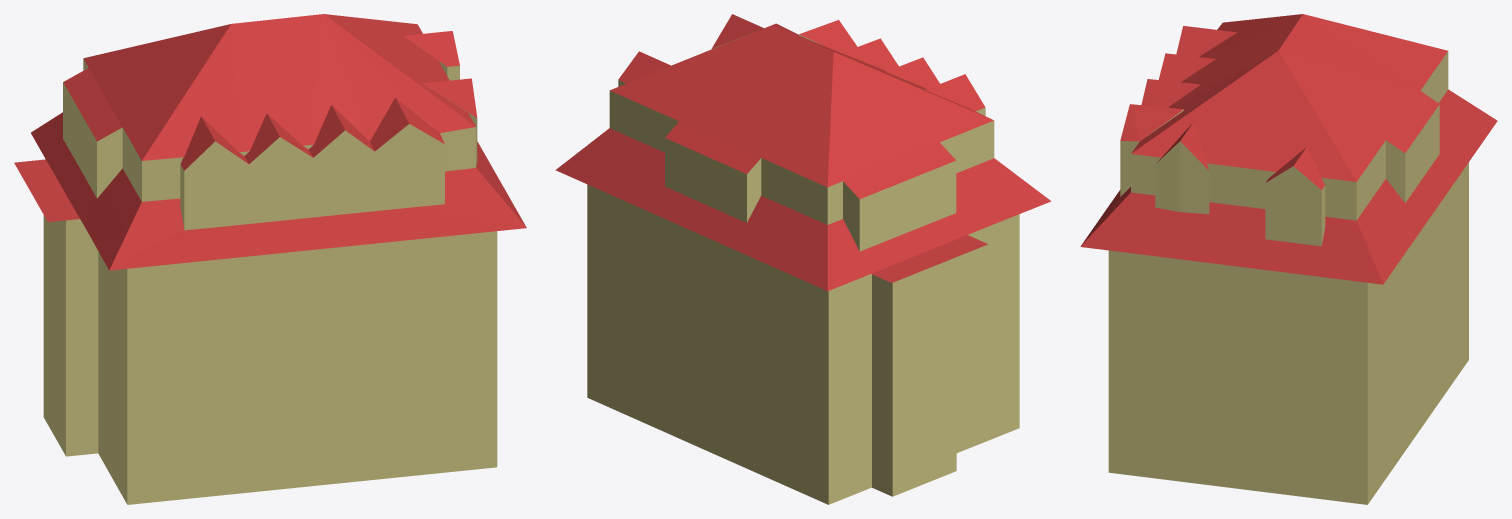
3 views of the same model, side by side, from view 1: azimuth 30°, elevation 25°; view 2: azimuth 150°, elevation 25°; view 3: azimuth 270°, elevation 25° (orthographic). The views are drawn at different scales.
Visible parts, largest first — view 1: group_13, group_4, group_9, group_3, group_12, group_5, group_8, group_6, group_10; view 2: group_13, group_4, group_3, group_5, group_12, group_8, group_6, group_10; view 3: group_13, group_4, group_3, group_5, group_12, group_8, group_7, group_11, group_6, group_9, group_10.
Part boxes in pixels (x1,y1,x2,y2): group_13: (43,215,497,504); group_4: (63,14,475,160); group_9: (180,124,444,230); group_3: (14,112,526,270); group_12: (15,115,526,270); group_5: (63,59,476,201); group_8: (180,97,444,170); group_6: (404,31,459,66); group_10: (423,78,477,117); group_13: (587,184,1019,504); group_4: (610,23,993,198); group_3: (556,128,1050,291); group_5: (609,91,994,251); group_12: (555,145,1049,290); group_8: (799,20,985,111); group_6: (618,51,670,83); group_10: (711,14,763,48); group_13: (1108,162,1468,504); group_4: (1131,14,1447,181); group_3: (1080,89,1497,284); group_5: (1131,51,1448,220); group_12: (1081,103,1495,284); group_8: (1120,26,1237,141); group_7: (1265,166,1325,246); group_11: (1155,141,1209,214); group_6: (1265,147,1324,189); group_9: (1120,109,1183,196); group_10: (1157,122,1208,170).
Bounding box in the file's own units: 15.53 × 13.59 × 13.78.
